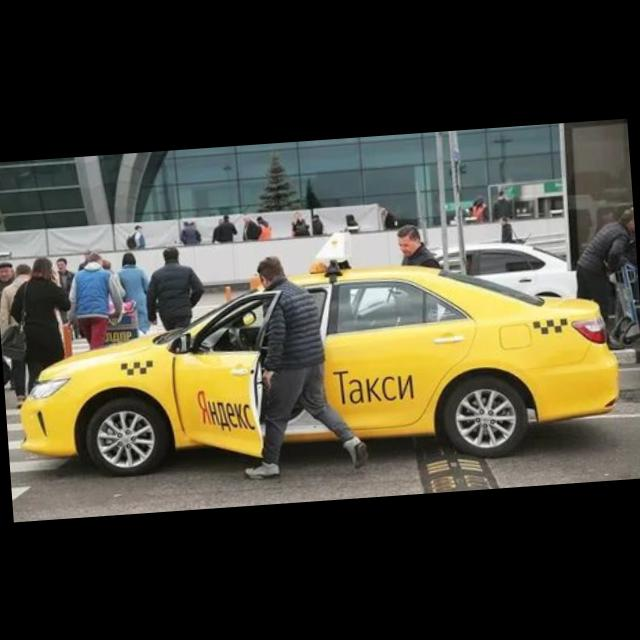taxi: (9, 231, 626, 493)
